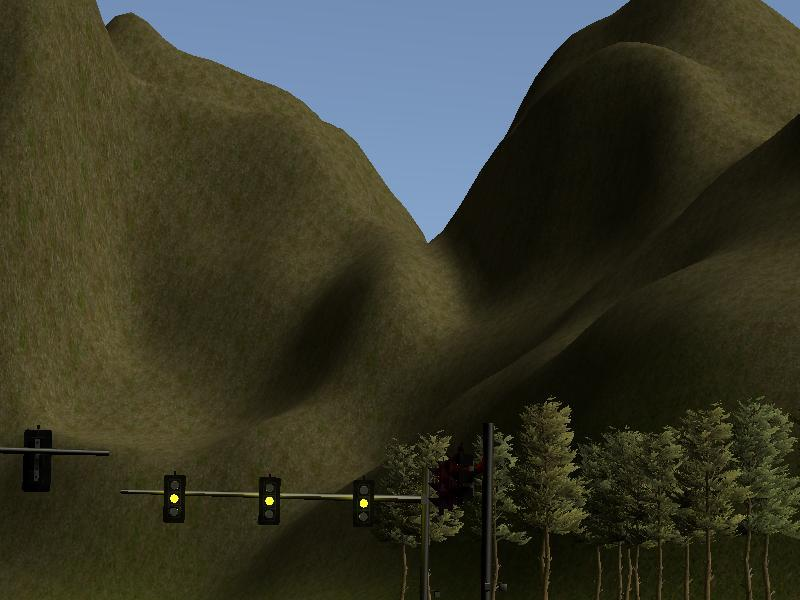Yellow: (163, 474, 185, 523), (354, 479, 375, 528), (257, 478, 279, 523)
